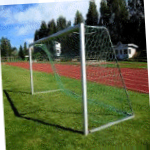goals: (27, 19, 138, 141)
